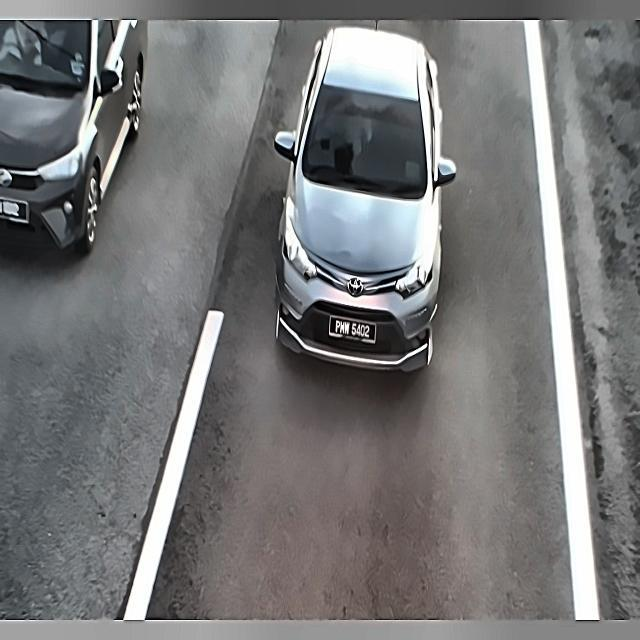car: (327, 310, 378, 349), (0, 198, 30, 226)
